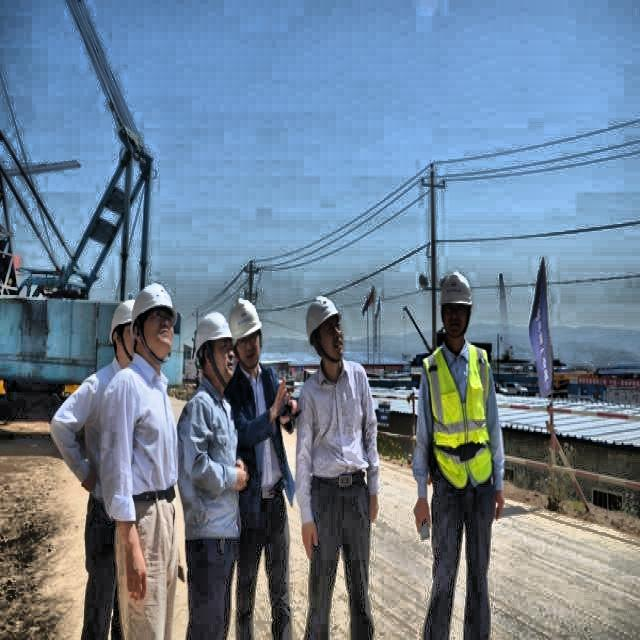person: (180, 295, 300, 640), (408, 269, 509, 640), (298, 287, 386, 640), (104, 266, 180, 640)
